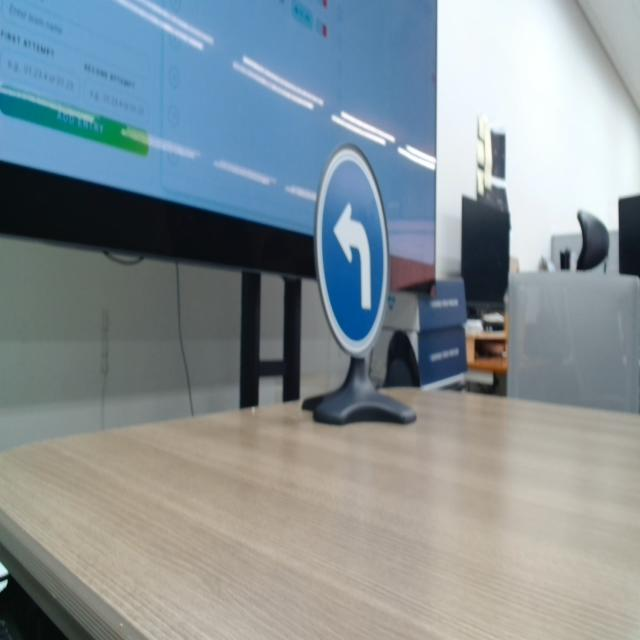left_direction: (310, 119, 394, 377)
